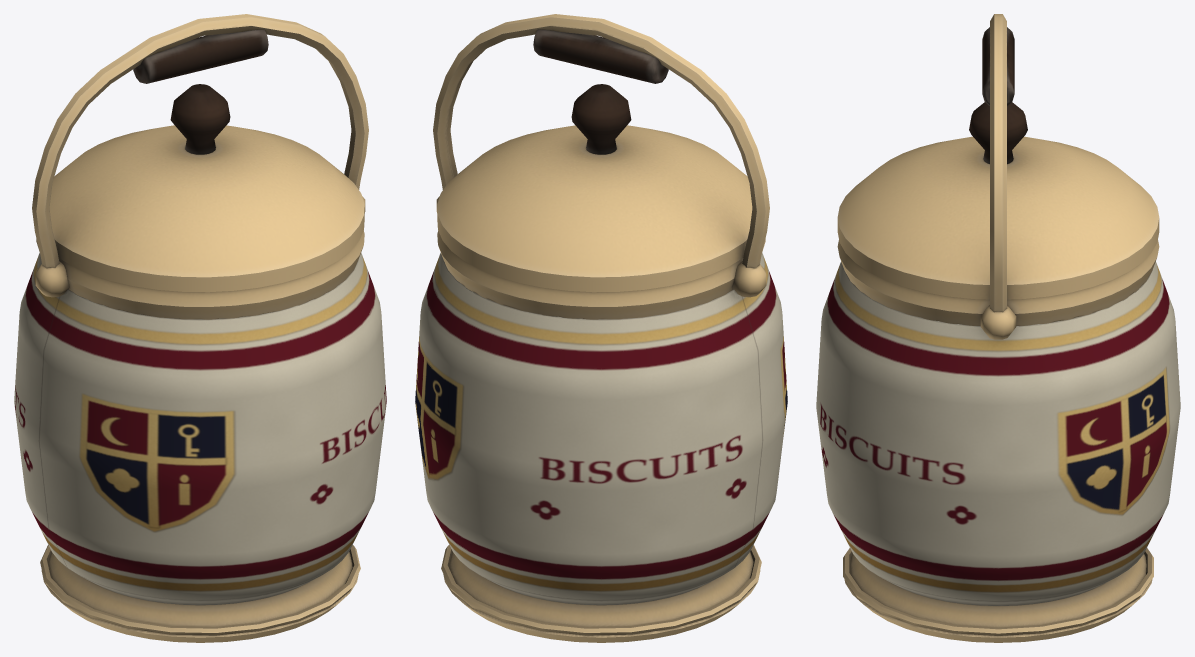
File: BiscuitBarrel.fbx
3 views of the same model, side by side, from view 1: azimuth 30°, elevation 25°; view 2: azimuth 150°, elevation 25°; view 3: azimuth 270°, elevation 25° (orthographic). The views are drawn at different scales.
Parts seen in each view (by area): view 1: BiscuitBarrel; view 2: BiscuitBarrel; view 3: BiscuitBarrel.
Part boxes in pixels (bbox=[...]): BiscuitBarrel: bbox=[14, 14, 386, 642]; BiscuitBarrel: bbox=[415, 14, 787, 642]; BiscuitBarrel: bbox=[816, 14, 1180, 642].
Size of the model in its own units: 70.09 by 113 by 68.
